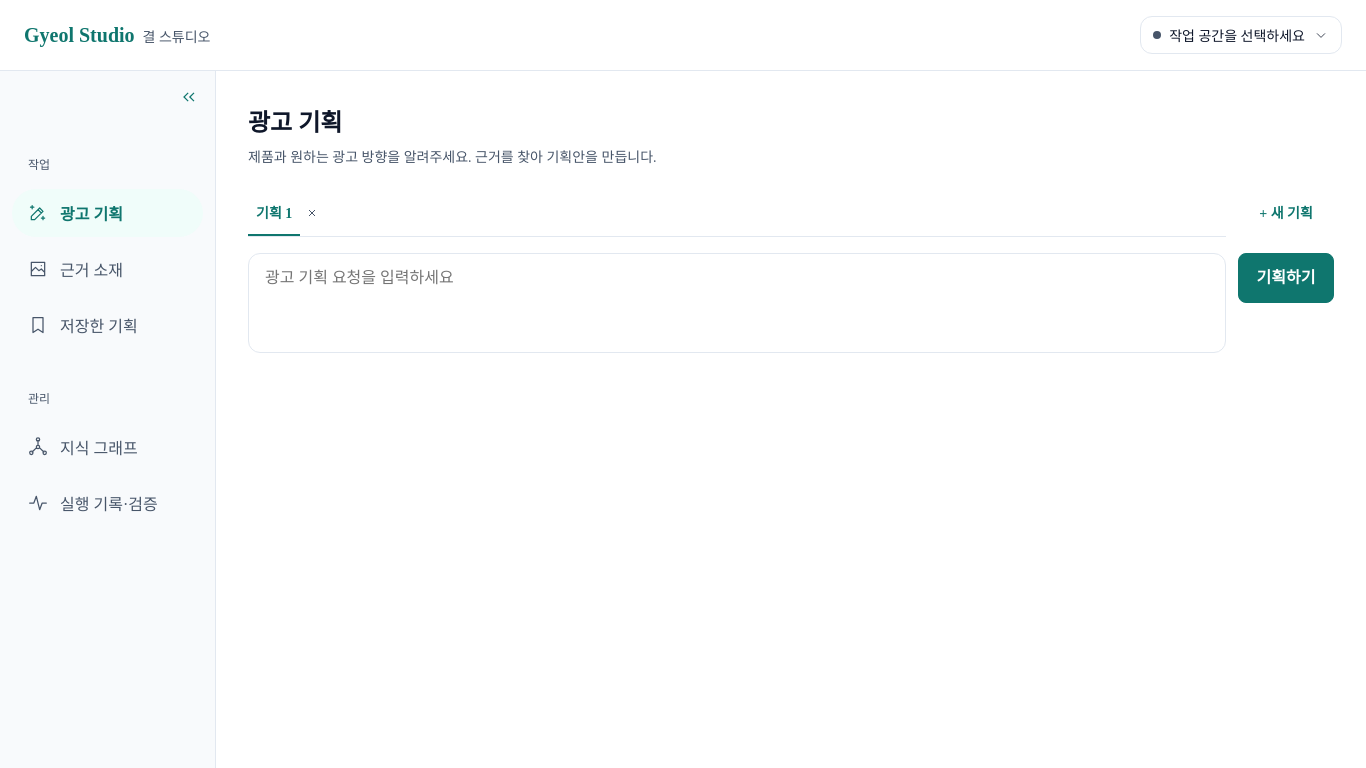
Test: toggles an accessible sidebar rail in session while keeping all five names and groups
Later steps or results of the test are not shown.
Check: the text box labelled "요청" is shown, box left=248, top=253, right=1226, bottom=353
Click the button named "사이드바 접기". click: click(189, 97)
box: left=175, top=83, right=203, bottom=111
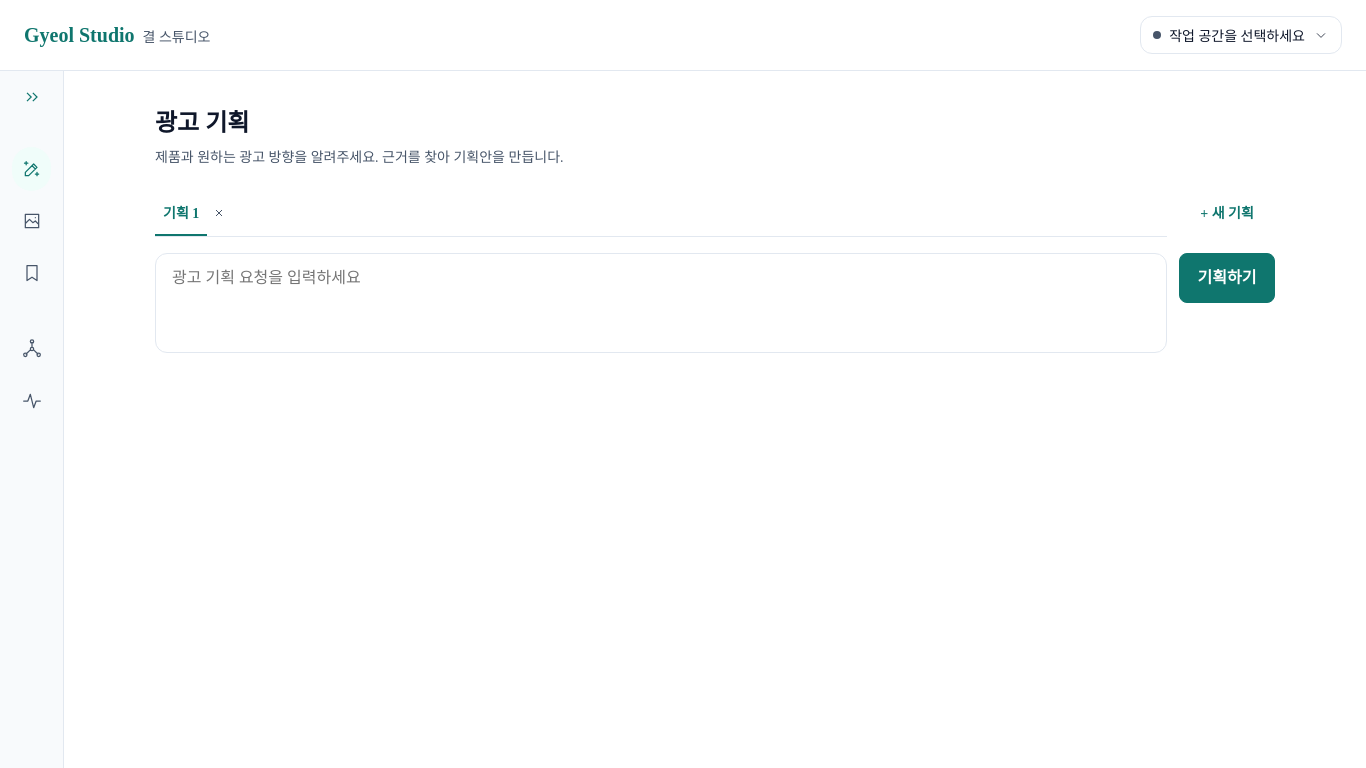
Check: the button named "사이드바 펼치기" is collapsed, box left=18, top=83, right=46, bottom=111
Check: the buttons read "광고 기획", "근거 소재", "저장한 기획", "지식 그래프", "실행 기록·검증", in this order
Click the button named "근거 소재". click: click(32, 221)
box: left=12, top=199, right=51, bottom=243
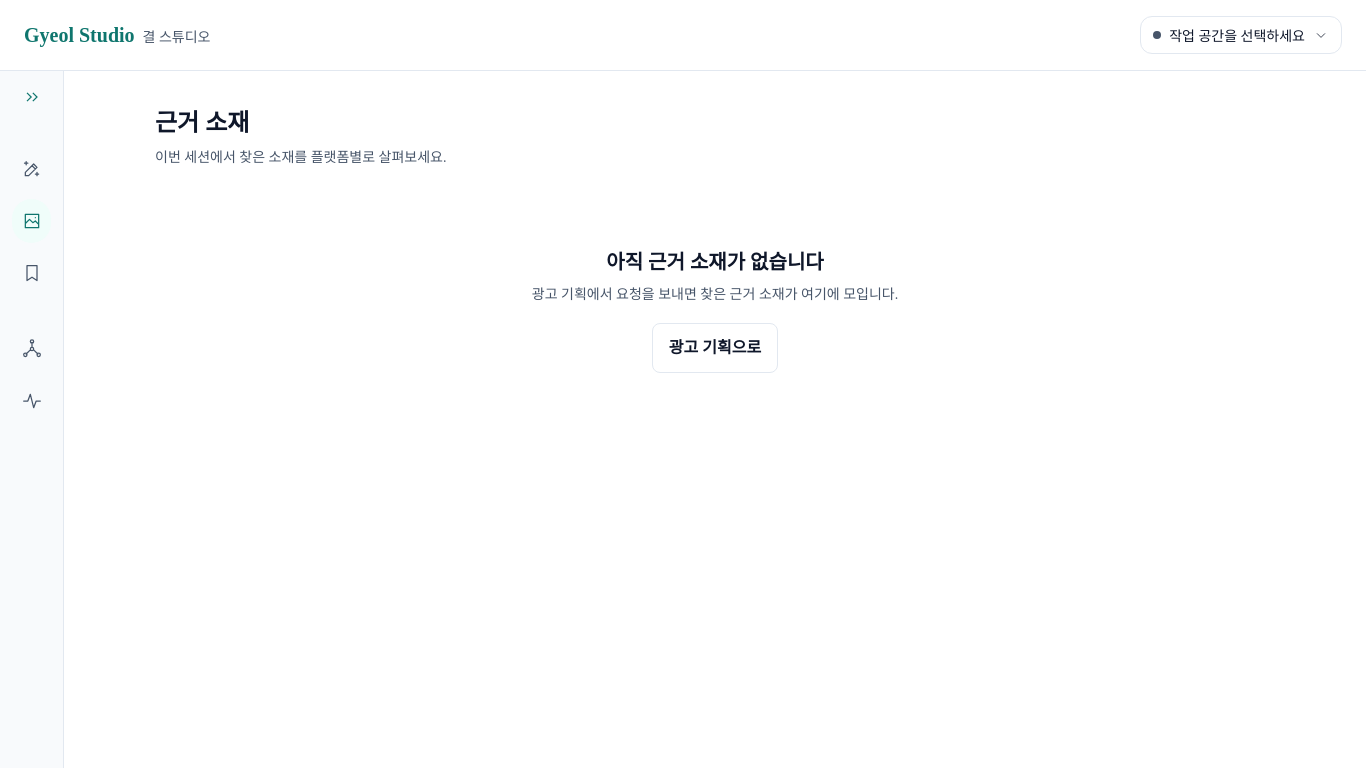
Check: the button named "사이드바 펼치기" is collapsed
Click the button named "사이드바 펼치기". click: click(32, 97)
box: left=18, top=83, right=46, bottom=111
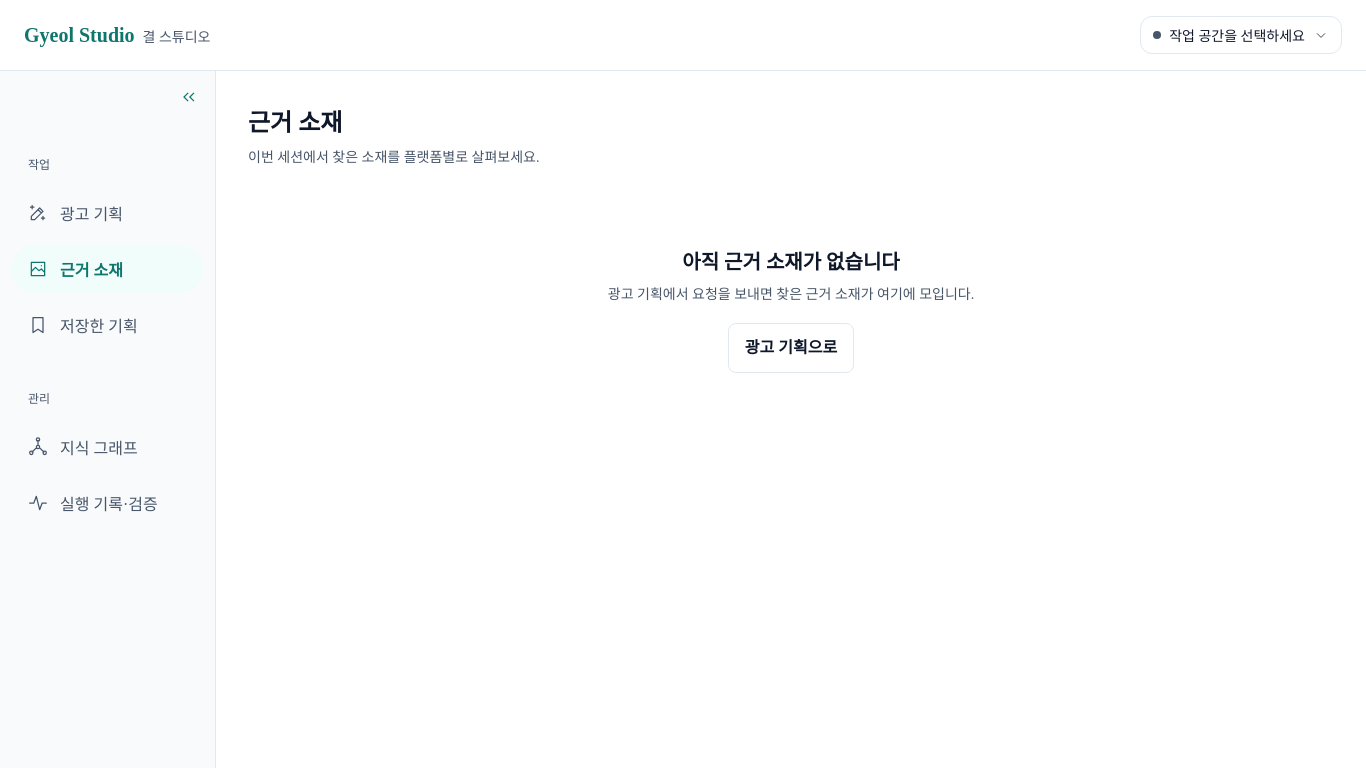
Check: the button "광고 기획" does not have attribute title, box left=12, top=189, right=203, bottom=237
Check: the button "근거 소재" does not have attribute title, box left=12, top=245, right=203, bottom=293
Check: the button "저장한 기획" does not have attribute title, box left=12, top=301, right=203, bottom=349
